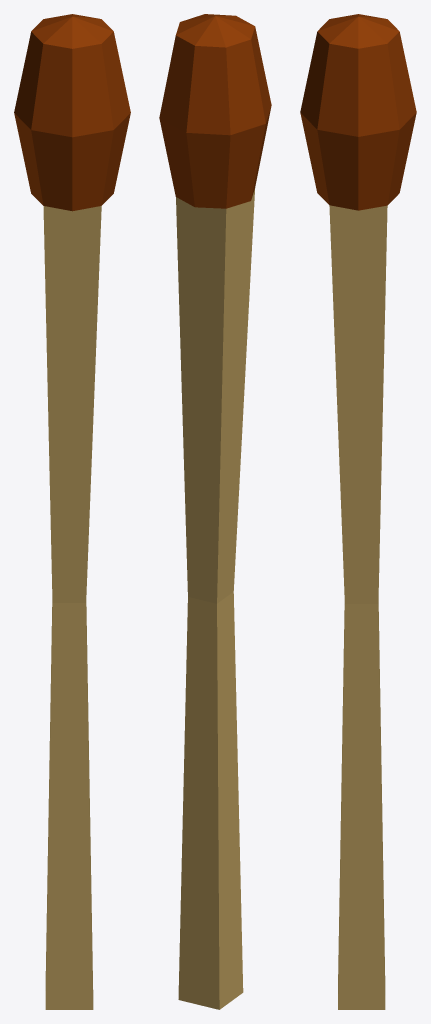
File: Alumette.fbx
3 renders of one model, left to right at view 1: azimuth 90°, elevation 25°; view 2: azimuth 150°, elevation 25°; view 3: azimuth 270°, elevation 25°, orthographic.
Parts seen in each view (by area): view 1: Cube.008; view 2: Cube.008; view 3: Cube.008.
Part boxes in pixels (x1=…): Cube.008: x1=14, y1=14, x2=130, y2=1009; Cube.008: x1=159, y1=14, x2=271, y2=1009; Cube.008: x1=300, y1=14, x2=416, y2=1009.
Size of the model in its own units: 54.37 by 505 by 54.37.
